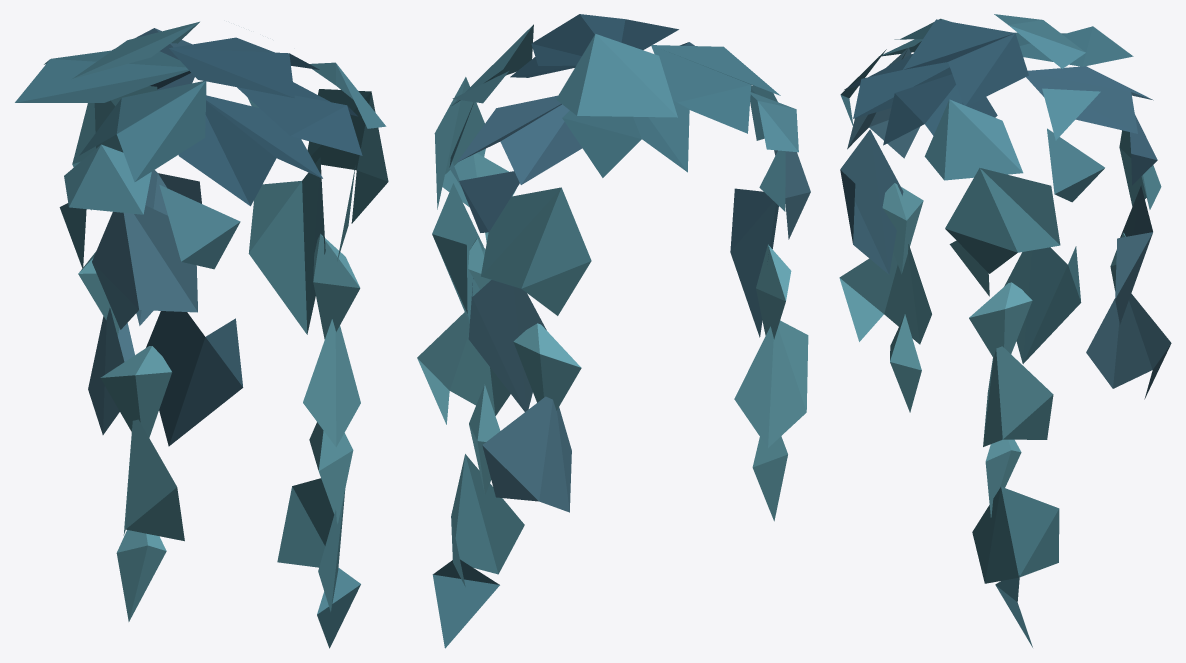
File: SM_Env_Ivy_Pot_01.fbx
3 renders of one model, left to right at view 1: azimuth 30°, elevation 25°; view 2: azimuth 150°, elevation 25°; view 3: azimuth 270°, elevation 25°, orthographic. The views are drawn at different scales.
Parts seen in each view (by area): view 1: SM_Env_Ivy_Pot_01; view 2: SM_Env_Ivy_Pot_01; view 3: SM_Env_Ivy_Pot_01.
Part boxes in pixels (<box>): SM_Env_Ivy_Pot_01: <box>15,21,388,648</box>; SM_Env_Ivy_Pot_01: <box>417,14,810,648</box>; SM_Env_Ivy_Pot_01: <box>839,14,1171,647</box>.
Bounding box in the file's own units: 0.5907 × 1.12 × 0.5968.
Materials: 1 (1 with a texture image).
